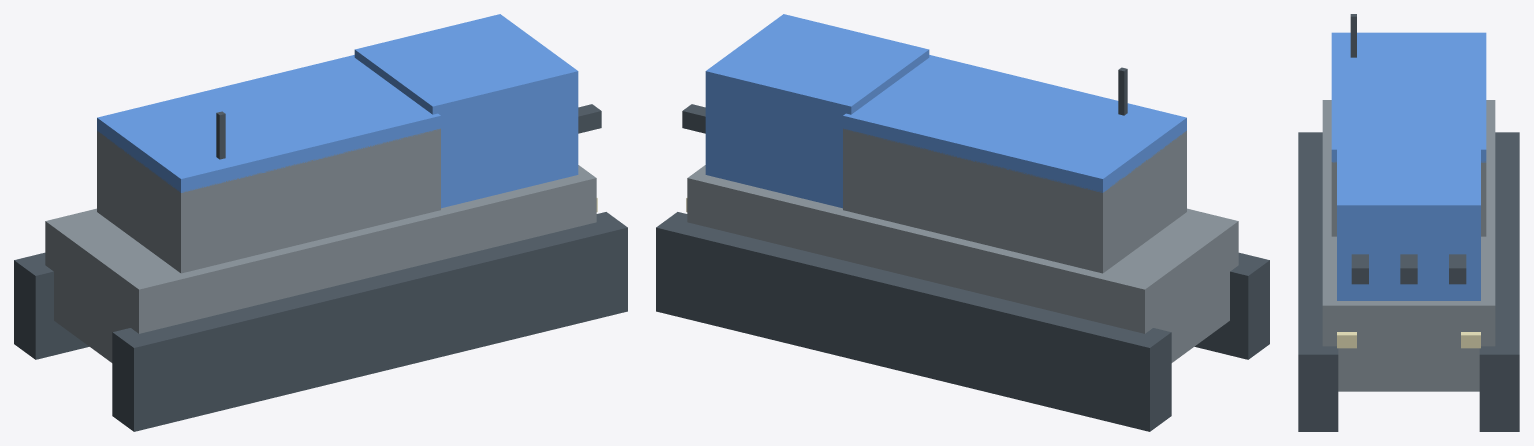
File: raketwagen.glb
3 views of the same model, side by side, from view 1: azimuth 30°, elevation 25°; view 2: azimuth 150°, elevation 25°; view 3: azimuth 270°, elevation 25° (orthographic). The views are drawn at different scales.
Parts seen in each view (by area): view 1: hull_dark_LOD0, hull_steel_LOD0, turret_steel_LOD0, hull_team_LOD0, turret_team_LOD0, barrel_dark_LOD0; view 2: hull_dark_LOD0, hull_steel_LOD0, turret_steel_LOD0, hull_team_LOD0, turret_team_LOD0, barrel_dark_LOD0; view 3: hull_team_LOD0, hull_steel_LOD0, hull_dark_LOD0, turret_team_LOD0, barrel_dark_LOD0, turret_steel_LOD0, hull_lamp_LOD0.
Boxes of the visible parts, x1,y1,x2,y2 form: hull_dark_LOD0: [14, 111, 627, 431]; hull_steel_LOD0: [45, 165, 596, 362]; turret_steel_LOD0: [97, 128, 440, 273]; hull_team_LOD0: [354, 14, 578, 208]; turret_team_LOD0: [97, 55, 440, 192]; barrel_dark_LOD0: [578, 104, 601, 133]; hull_dark_LOD0: [656, 67, 1269, 431]; hull_steel_LOD0: [687, 165, 1238, 362]; turret_steel_LOD0: [843, 128, 1186, 273]; hull_team_LOD0: [705, 14, 929, 208]; turret_team_LOD0: [843, 55, 1186, 192]; barrel_dark_LOD0: [682, 104, 705, 133]; hull_team_LOD0: [1337, 140, 1480, 300]; hull_steel_LOD0: [1322, 100, 1495, 391]; hull_dark_LOD0: [1298, 14, 1519, 431]; turret_team_LOD0: [1331, 32, 1486, 162]; barrel_dark_LOD0: [1351, 254, 1466, 284]; turret_steel_LOD0: [1331, 161, 1486, 236]; hull_lamp_LOD0: [1337, 332, 1480, 348].
Size of what is drawn, in the model's own units: 6.69 by 3.45 by 2.8.
